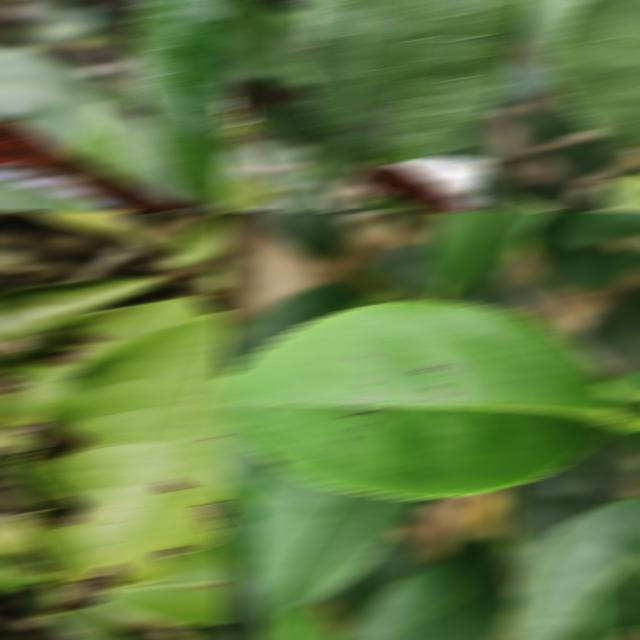Leaf: (219, 302, 619, 497), (18, 311, 229, 611), (300, 0, 530, 163), (0, 295, 211, 454), (248, 466, 421, 631), (130, 0, 229, 210), (509, 496, 640, 640), (338, 538, 515, 640), (546, 0, 640, 144), (220, 283, 370, 373), (98, 532, 229, 624), (425, 212, 551, 299), (0, 277, 165, 340), (64, 101, 150, 186), (219, 0, 304, 86), (0, 45, 90, 118), (526, 241, 640, 291), (27, 212, 165, 247), (219, 523, 259, 640), (527, 212, 640, 249), (255, 212, 346, 256), (160, 214, 229, 267), (245, 104, 329, 143), (41, 604, 129, 640), (294, 138, 365, 179), (599, 172, 640, 210), (0, 519, 35, 556), (26, 589, 55, 608)
